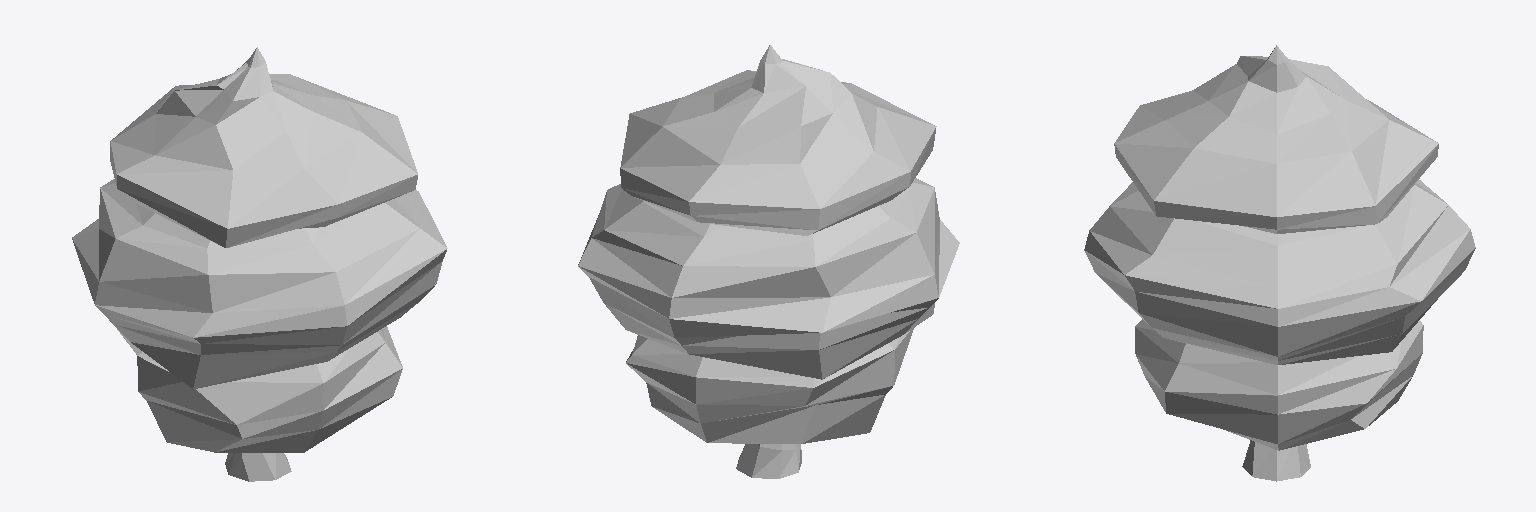
Rendered from arbol4.obj.
3 renders of one model, left to right at view 1: azimuth 30°, elevation 25°; view 2: azimuth 150°, elevation 25°; view 3: azimuth 270°, elevation 25°, orthographic.
Visible parts, largest first — view 1: Circle_007; view 2: Circle_007; view 3: Circle_007.
Boxes of the visible parts, x1=… form: Circle_007: x1=72, y1=47, x2=447, y2=481; Circle_007: x1=578, y1=45, x2=959, y2=478; Circle_007: x1=1084, y1=45, x2=1475, y2=481.
Size of the model in its own units: 40.28 by 48.82 by 41.12.